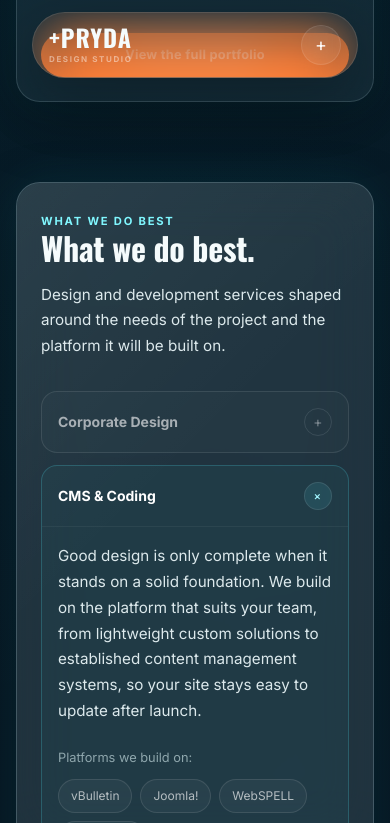
Test: services › opens the mobile accordion
This screenshot has width=390, height=823.
(page scrolled)
Click the button "Corporate Design +" at (118, 422), box [42,392,348,452]
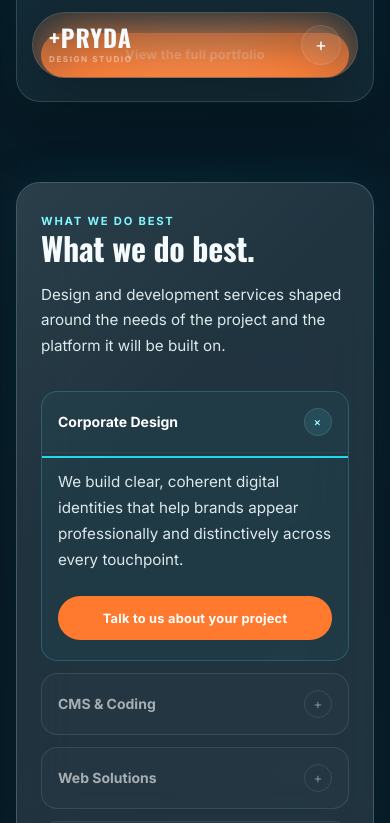
Expected: the button "Corporate Design +" is expanded, [42,392,348,452]
